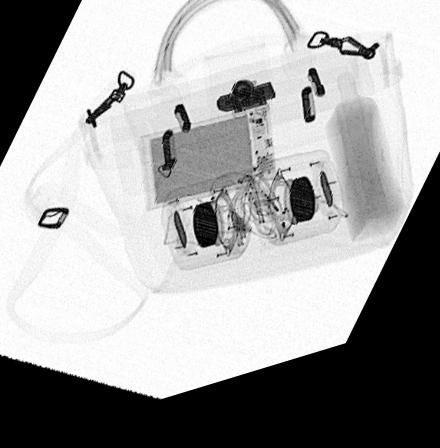Powerbank: (139, 120, 278, 221)
